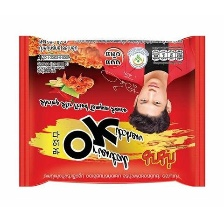snack: (8, 29, 213, 194)
